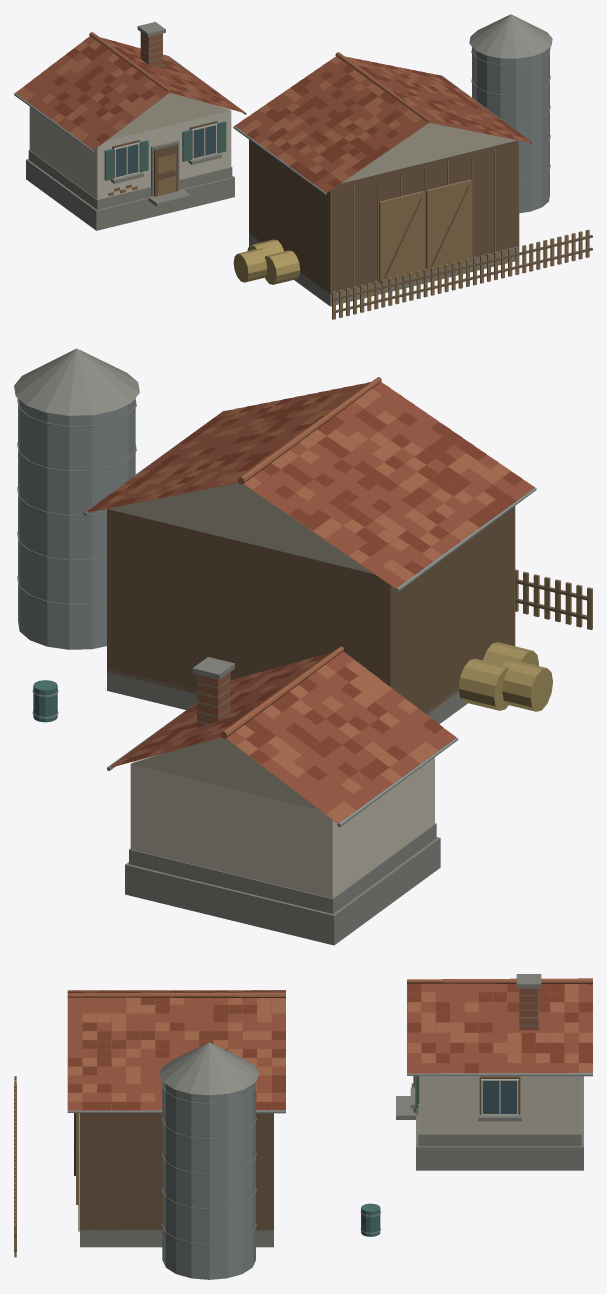
Rendered from farm.glb.
The picture shows the model from 3 angles, top to bottom: view 1: azimuth 30°, elevation 25°; view 2: azimuth 150°, elevation 25°; view 3: azimuth 270°, elevation 25°; orthographic projection. The views are drawn at different scales.
Visible parts, largest first — view 1: farm_visual; view 2: farm_visual; view 3: farm_visual.
Part boxes in pixels (bbox=[...]): farm_visual: bbox=[14, 14, 592, 319]; farm_visual: bbox=[14, 348, 592, 945]; farm_visual: bbox=[14, 974, 592, 1279].
Size of what is drawn, in the model's own units: 15.85 by 8.15 by 17.93.
